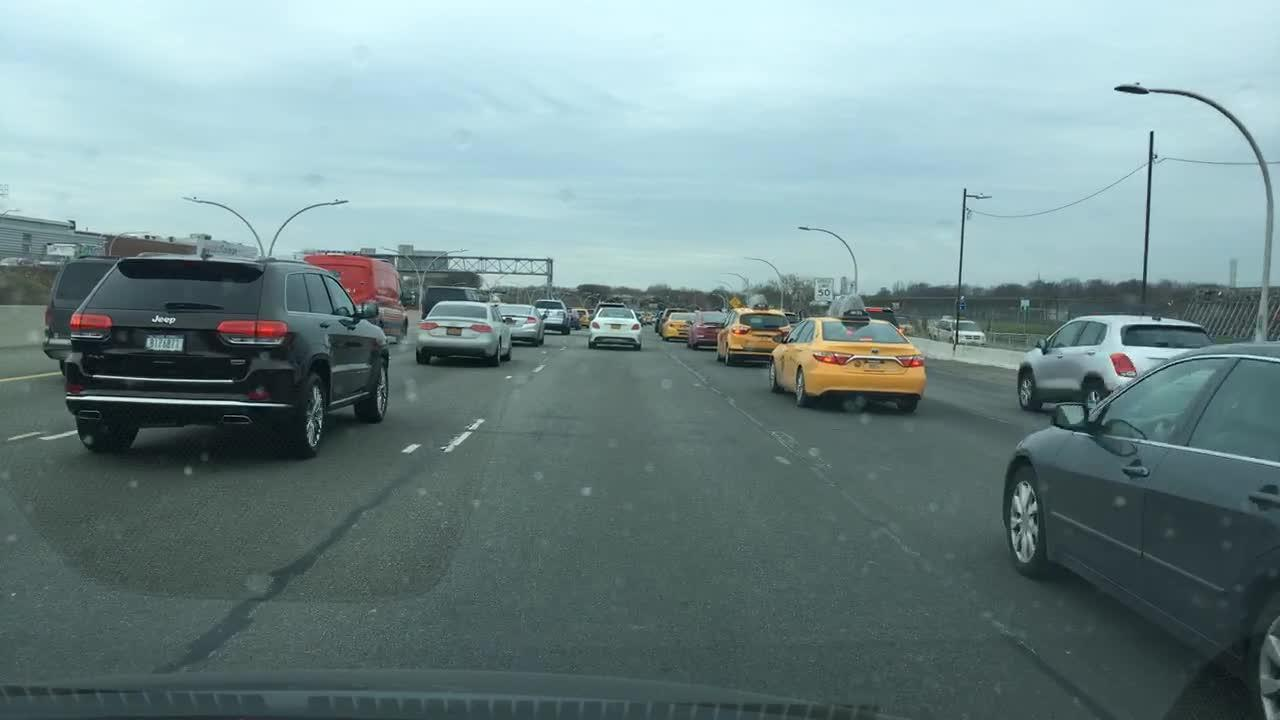jeep: (139, 309, 187, 332)
